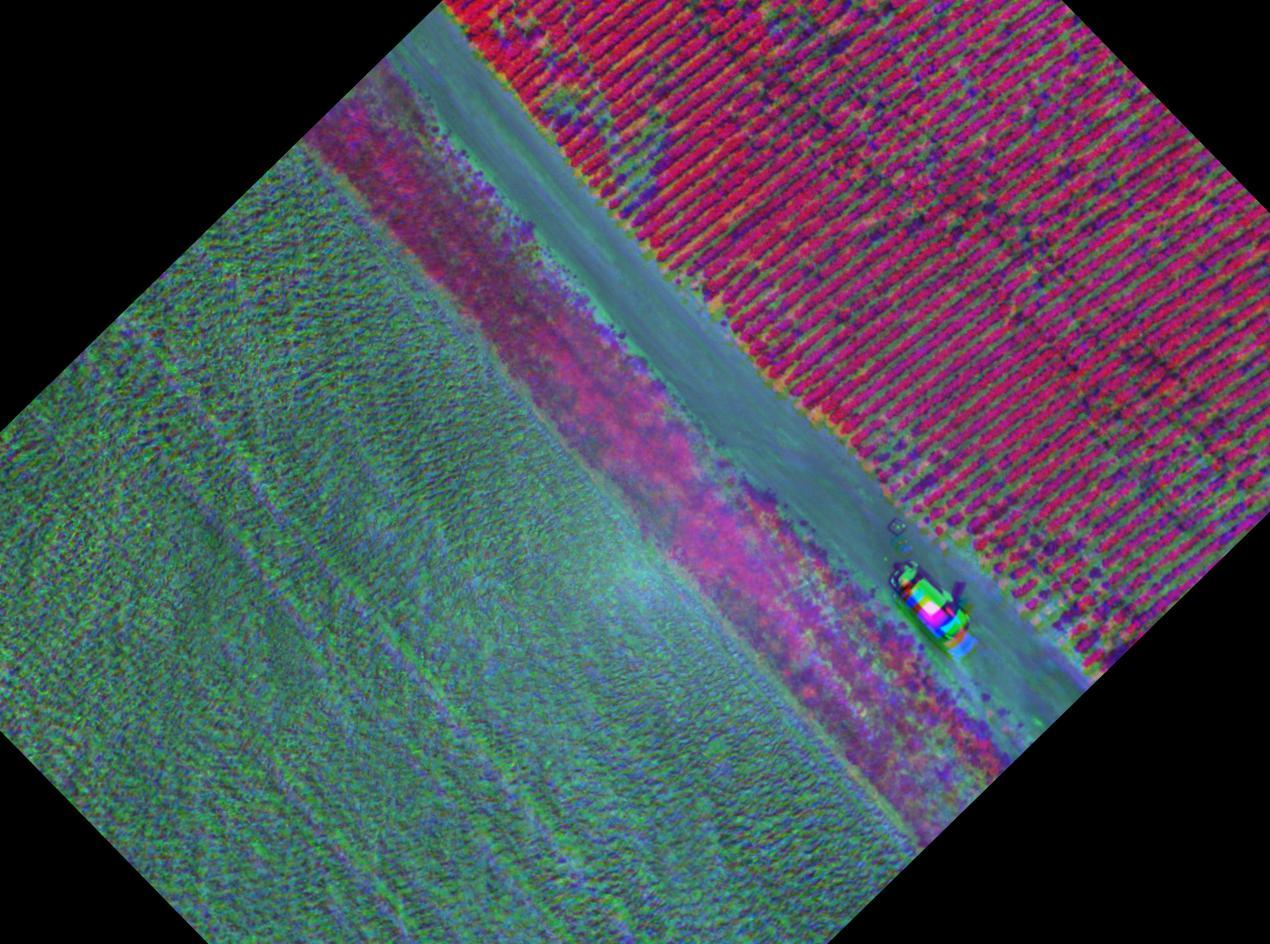dc: (1165, 422, 1236, 503), (531, 72, 606, 148), (872, 417, 935, 480), (1013, 558, 1064, 620), (687, 261, 754, 308), (616, 122, 655, 195), (946, 530, 1013, 572)
